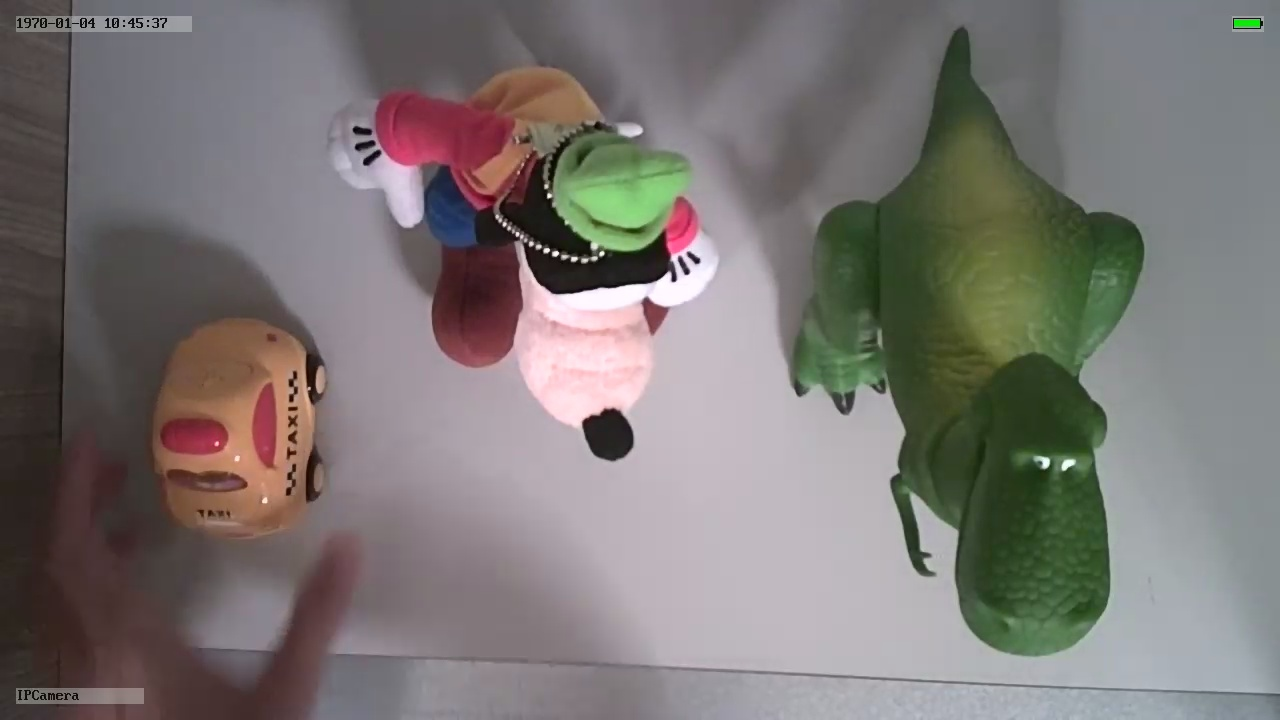goofy: (324, 66, 720, 459)
rex: (791, 101, 1145, 658)
